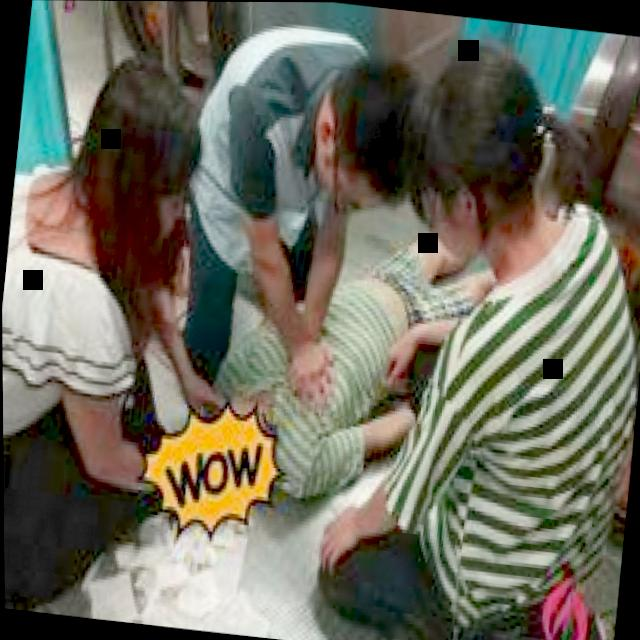Fall-Detected: (218, 179, 485, 524)
